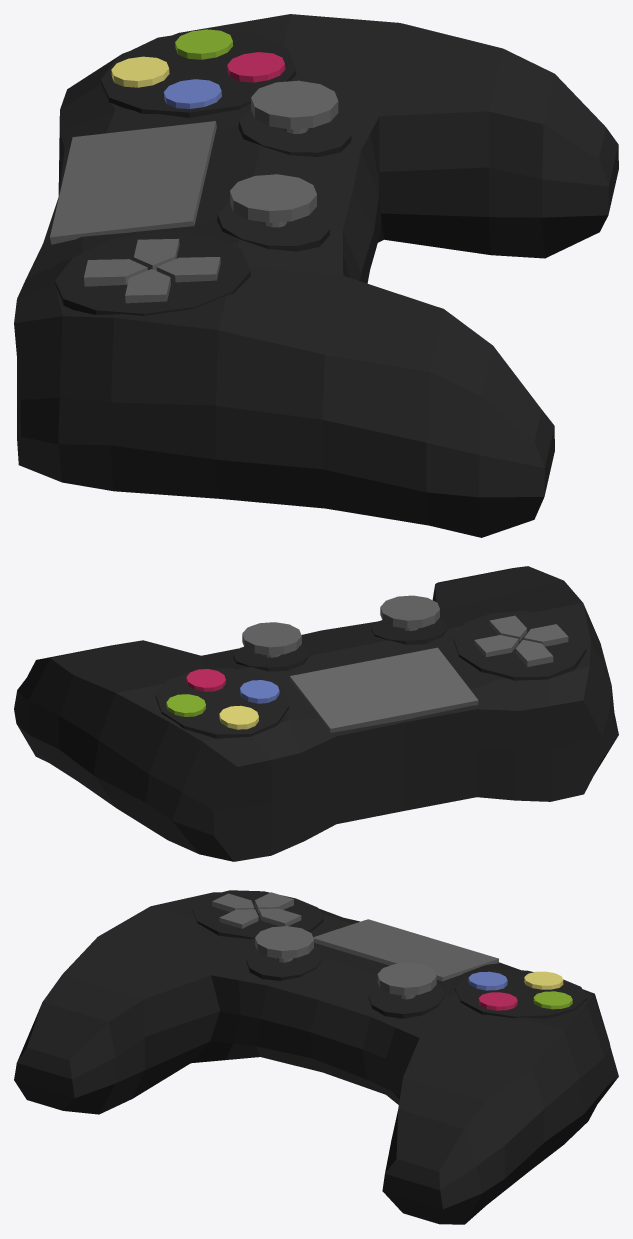
The model's file is controller.glb.
3 views of the same model, one above another, from view 1: azimuth 30°, elevation 25°; view 2: azimuth 150°, elevation 25°; view 3: azimuth 270°, elevation 25° (orthographic). The views are drawn at different scales.
Visible parts, largest first — view 1: controller; view 2: controller; view 3: controller.
Part boxes in pixels (x1,y1,x2,y2): controller: [14, 14, 618, 537]; controller: [14, 566, 618, 861]; controller: [14, 890, 618, 1224].
Size of the model in its own units: 0.2964 by 0.0858 by 0.315.
